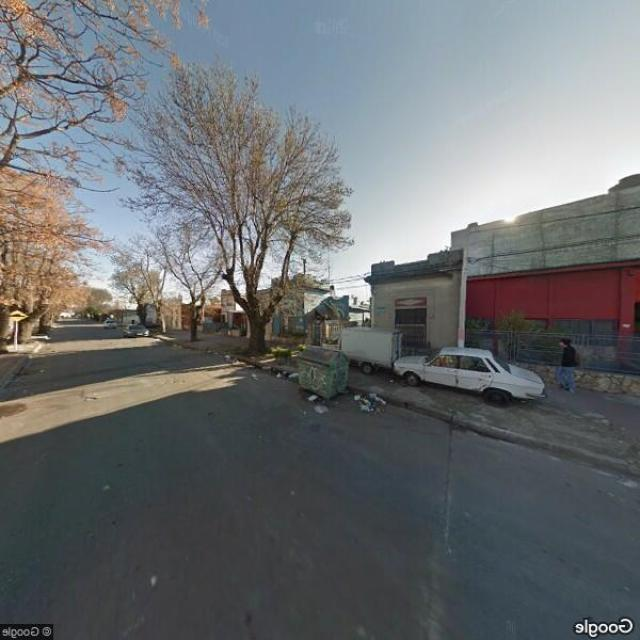garbage container: (288, 340, 356, 406)
